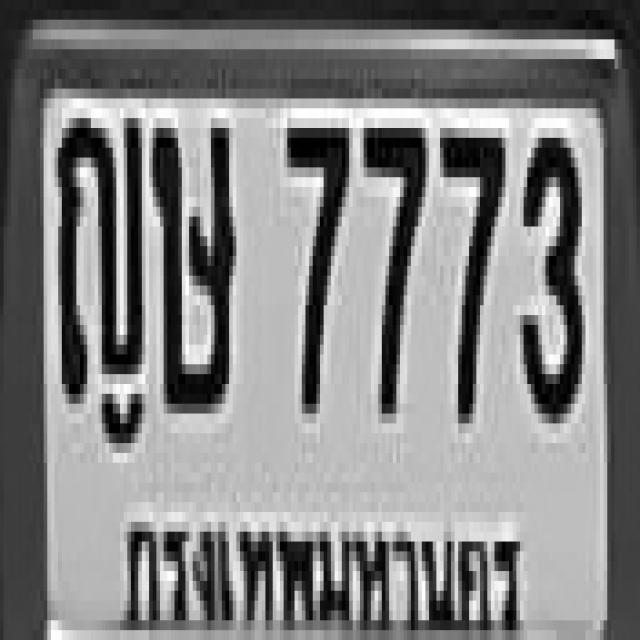22YorYing: (53, 103, 140, 399)
3: (516, 128, 578, 414)
48SorRueSi: (149, 108, 233, 404)
7: (436, 118, 502, 414), (284, 118, 346, 404), (360, 118, 422, 404)
Bangkok: (120, 498, 530, 640)
